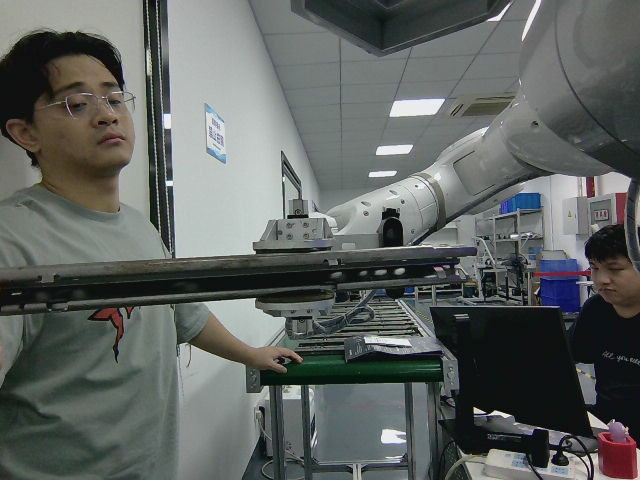left: (5, 243, 479, 313)
